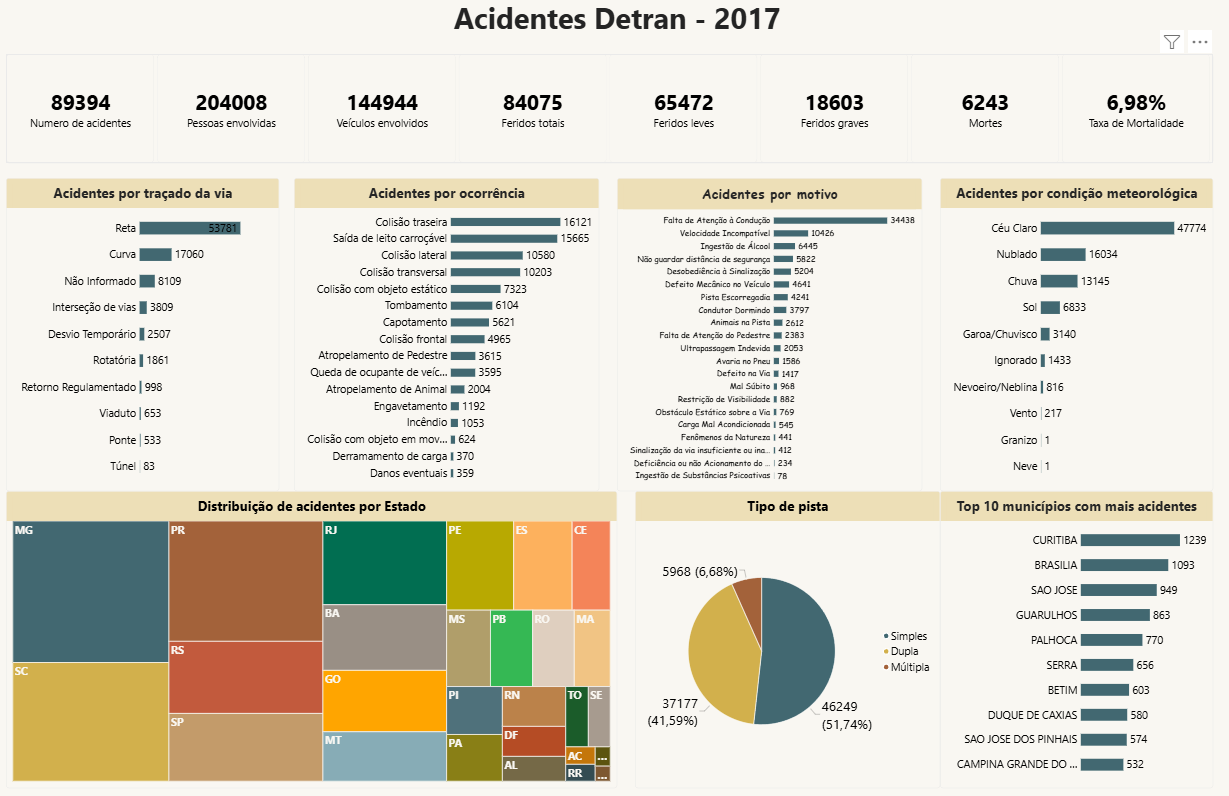

What the dashboard file says about the page in this screenshot:
{"tool":"powerbi","page":{"name":"Página 1","canvas":[3100,2000],"ordinal":0},"visuals":[{"type":"cardVisual","fields":{"Data":["Medidas.Quantidade de Acidentes","Sum(datatran2017.pessoas)","Sum(datatran2017.veiculos)","Medidas.Feridos","Sum(datatran2017.feridos_leves)","Sum(datatran2017.feridos_graves)","Medidas.Mortes","Medidas.Taxa de Mortalidade"]},"box":[22.5,142.5,3017.5,272.5],"z":0},{"type":"textbox","box":[0,2.5,3100,102.5],"z":1000},{"type":"barChart","title":"Acidentes por condição meteorológica","fields":{"Category":["datatran2017.condicao_metereologica"],"Y":["Medidas.Quantidade de Acidentes"]},"box":[2357.5,452.5,682.5,782.5],"z":2000},{"type":"barChart","title":"Acidentes por motivo","fields":{"Category":["datatran2017.causa_acidente"],"Y":["Medidas.Quantidade de Acidentes"]},"box":[1550,452.5,762.5,782.5],"z":3000},{"type":"barChart","title":"Acidentes por ocorrência","fields":{"Category":["datatran2017.tipo_acidente"],"Y":["Medidas.Quantidade de Acidentes"]},"box":[742.5,452.5,762.5,782.5],"z":5000},{"type":"barChart","title":"Acidentes por traçado da via","fields":{"Category":["datatran2017.tracado_via"],"Y":["Medidas.Quantidade de Acidentes"]},"box":[22.5,452.5,682.5,782.5],"z":6000},{"type":"treemap","title":"Distribuição de acidentes por Estado","fields":{"Group":["datatran2017.uf"],"Values":["Medidas.Quantidade de Acidentes"]},"box":[22.5,1235,1527.5,742.5],"z":7000},{"type":"barChart","title":"Top 10 municípios com mais acidentes","fields":{"Y":["Medidas.Quantidade de Acidentes"],"Category":["datatran2017.municipio"]},"box":[2357.5,1235,682.5,742.5],"z":8000},{"type":"pieChart","title":"Tipo de pista","fields":{"Y":["Medidas.Quantidade de Acidentes"],"Category":["datatran2017.tipo_pista"]},"box":[1595,1235,762.5,742.5],"z":9000}]}

Visuals, with their boxes in screenshot pixels (x1, y1, x2, y2), scaled from the page's 3100x2000 canvas onto the 1229x796 screenshot:
cardVisual - Medidas.Quantidade de Acidentes x Sum(datatran2017.pessoas): <bbox>9, 57, 1205, 165</bbox>
textbox: <bbox>0, 1, 1228, 42</bbox>
"Acidentes por condição meteorológica" barChart: <bbox>935, 180, 1205, 492</bbox>
"Acidentes por motivo" barChart: <bbox>614, 180, 917, 492</bbox>
"Acidentes por ocorrência" barChart: <bbox>294, 180, 597, 492</bbox>
"Acidentes por traçado da via" barChart: <bbox>9, 180, 279, 492</bbox>
"Distribuição de acidentes por Estado" treemap: <bbox>9, 492, 614, 787</bbox>
"Top 10 municípios com mais acidentes" barChart: <bbox>935, 492, 1205, 787</bbox>
"Tipo de pista" pieChart: <bbox>632, 492, 935, 787</bbox>
